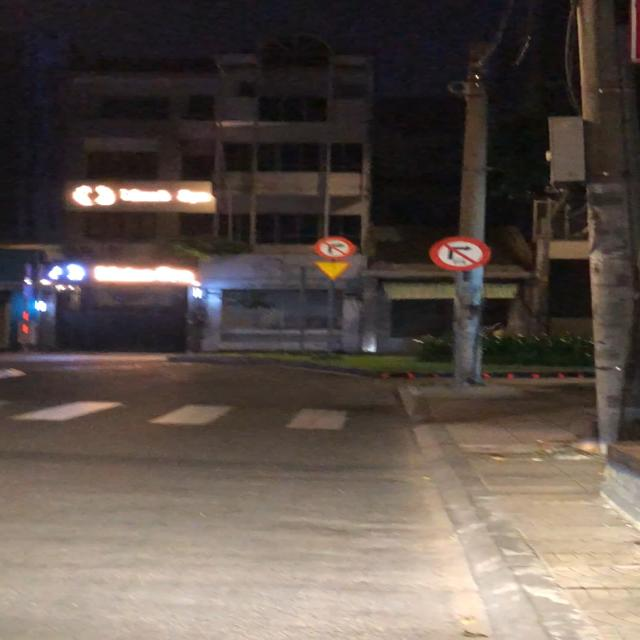Bien bao cam re phai: (313, 235, 357, 260)
Bien bao cam xe o to re phai: (431, 235, 493, 272)
Bien bao giao nhau voi duong uu tien: (311, 259, 354, 283)
